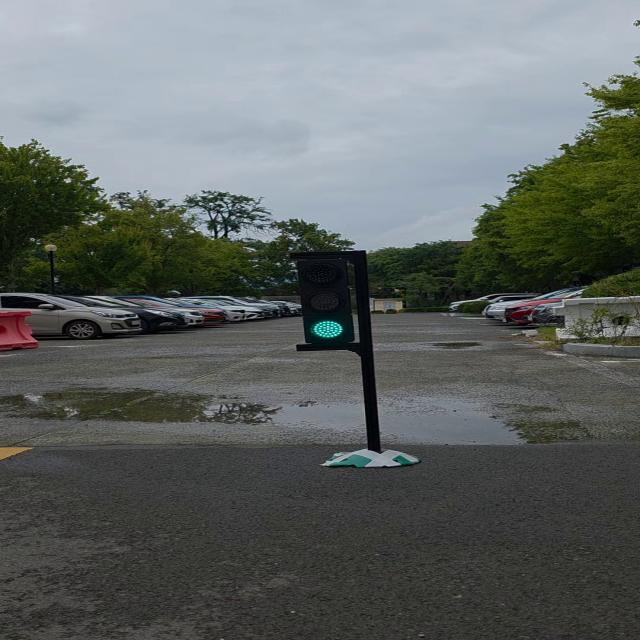green: (293, 251, 372, 350)
